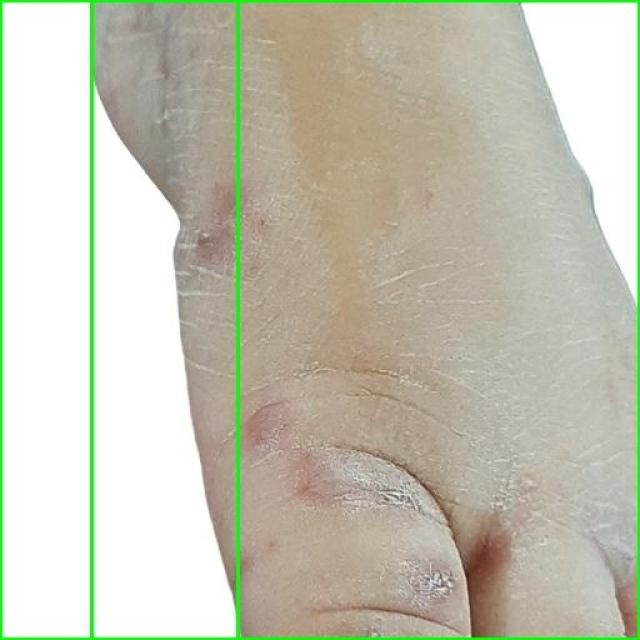Scabies: (91, 0, 639, 639), (0, 0, 238, 639)
